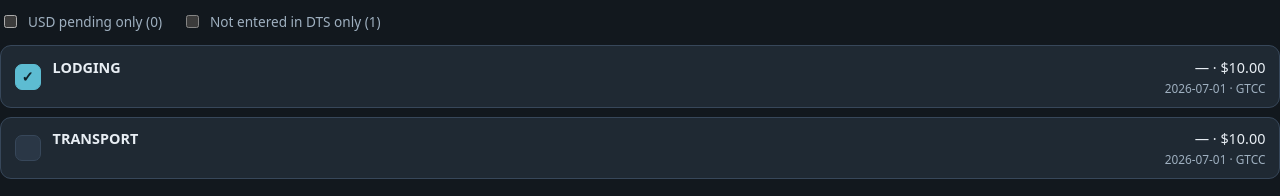
Test: ExpenseList — entered-in-DTS › "not entered only" filter hides entered items
The image size is (1280, 196).
Expected: the text "LODGING" is shown, x1=53 y1=58 x2=121 y2=77
Click the checkbox labelled "Not entered in DTS only (1)" at (192, 22), box x1=186 y1=15 x2=199 y2=28
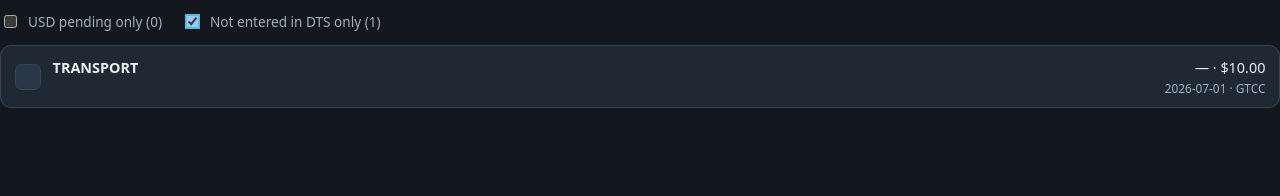
Expected: the text "TRANSPORT" is shown, x1=53 y1=58 x2=138 y2=77
Result: the button "LODGING" is gone
